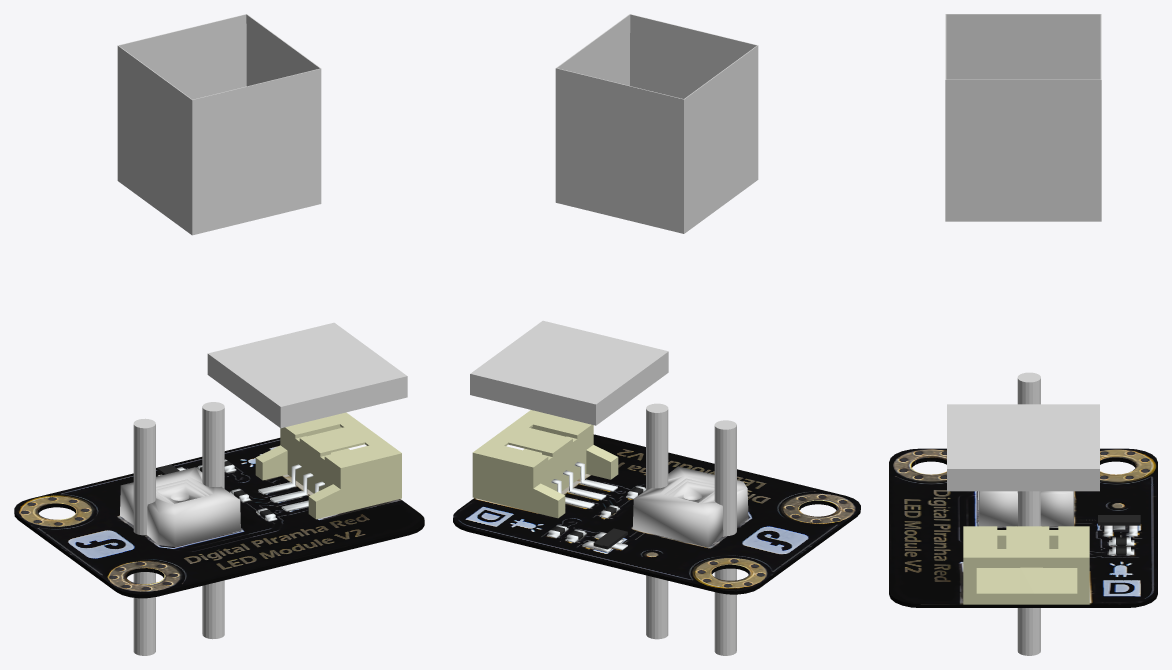
File: RedLED.fbx
The picture shows the model from 3 angles, left to right: view 1: azimuth 30°, elevation 25°; view 2: azimuth 150°, elevation 25°; view 3: azimuth 270°, elevation 25°; orthographic projection. The views are drawn at different scales.
Visible parts, largest first — view 1: Cube.003, Plane, Cube.001, Plane.012, Cube, Cylinder.002, Cylinder.001, Plane.013, Plane.006; view 2: Cube.003, Plane, Cube.001, Plane.012, Cube, Cylinder.002, Cylinder.001, Plane.006, Plane.013; view 3: Cube.003, Plane, Cube.001, Plane.012, Cube, Cylinder.001, Plane.006, Cylinder.002.
Part boxes in pixels (left/top/right/bottom): Cube.003: left=117, top=14, right=321, bottom=235; Plane: left=14, top=438, right=424, bottom=598; Cube.001: left=207, top=322, right=407, bottom=428; Plane.012: left=255, top=412, right=401, bottom=519; Cube: left=120, top=467, right=240, bottom=546; Cylinder.002: left=133, top=418, right=155, bottom=655; Cylinder.001: left=202, top=402, right=224, bottom=639; Plane.013: left=258, top=464, right=324, bottom=511; Plane.006: left=157, top=459, right=277, bottom=521; Cube.003: left=555, top=14, right=758, bottom=233; Plane: left=453, top=434, right=860, bottom=594; Cube.001: left=470, top=320, right=668, bottom=425; Plane.012: left=472, top=410, right=618, bottom=518; Cube: left=632, top=466, right=748, bottom=547; Cylinder.002: left=714, top=420, right=736, bottom=655; Cylinder.001: left=646, top=403, right=668, bottom=639; Plane.006: left=547, top=485, right=645, bottom=552; Plane.013: left=551, top=462, right=617, bottom=508; Cube.003: left=945, top=14, right=1101, bottom=221; Plane: left=889, top=448, right=1157, bottom=607; Cube.001: left=947, top=404, right=1099, bottom=491; Plane.012: left=963, top=526, right=1089, bottom=604; Cube: left=978, top=491, right=1073, bottom=526; Cylinder.001: left=1017, top=491, right=1040, bottom=655; Plane.006: left=1098, top=515, right=1140, bottom=555; Cylinder.002: left=1017, top=372, right=1040, bottom=404.
Bounding box in the file's own units: 281 × 508 × 204.
